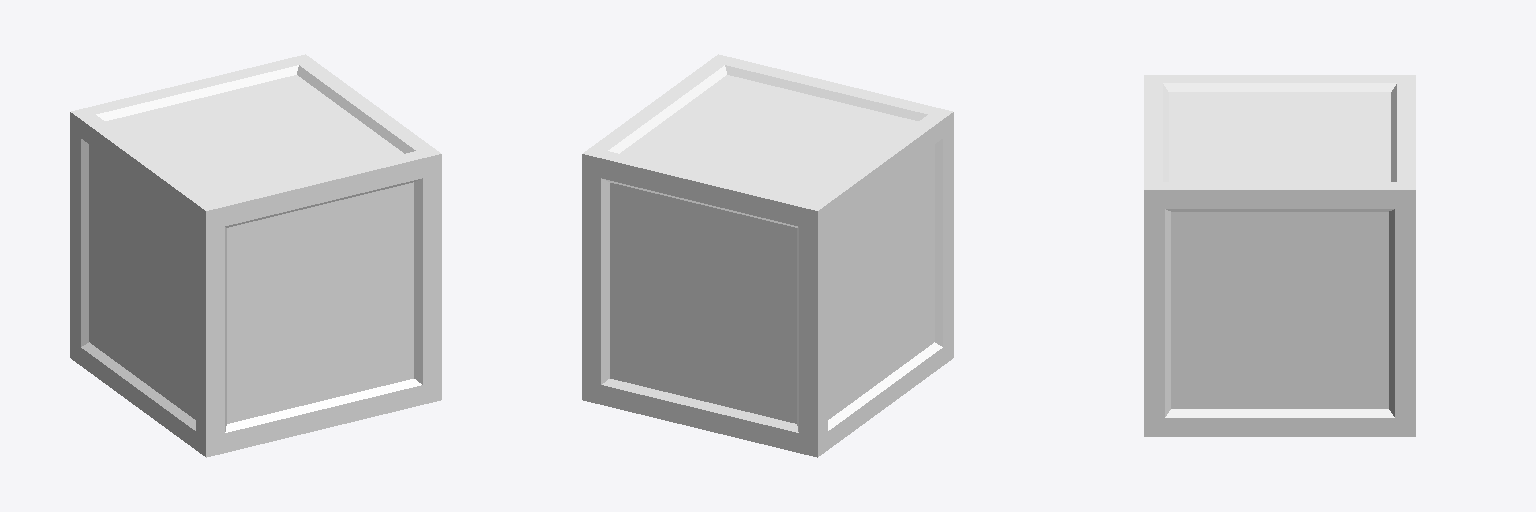
Rendered from basic_block.obj.
The picture shows the model from 3 angles: view 1: azimuth 30°, elevation 25°; view 2: azimuth 150°, elevation 25°; view 3: azimuth 270°, elevation 25°; orthographic projection.
Size of the model in its own units: 2.11 by 2.11 by 2.11.